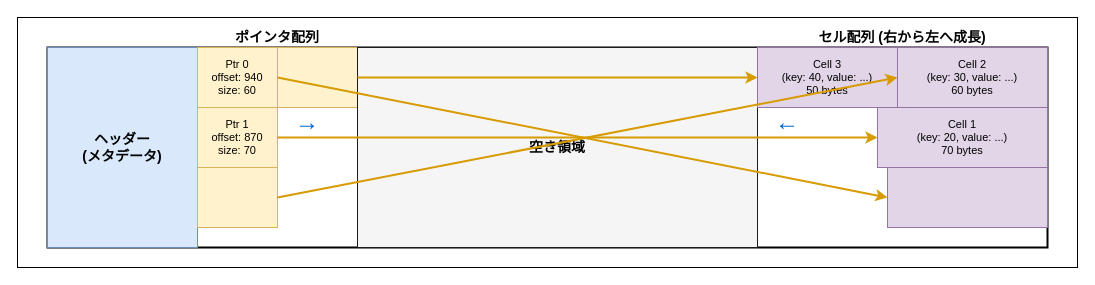
The diagram is 1095 pixels wide and 285 high, and some of its shapes have lost their labels. Here are the shapes that lost their labels. From the top down, the centre of each, then its label:
At [317,77]: "Ptr 3 offset: 760 size: 50".
At [237,197]: "Ptr 2 offset: 810 size: 60".
At [967,197]: "Cell 0 (key: 10, value: ...) 60 bytes".
